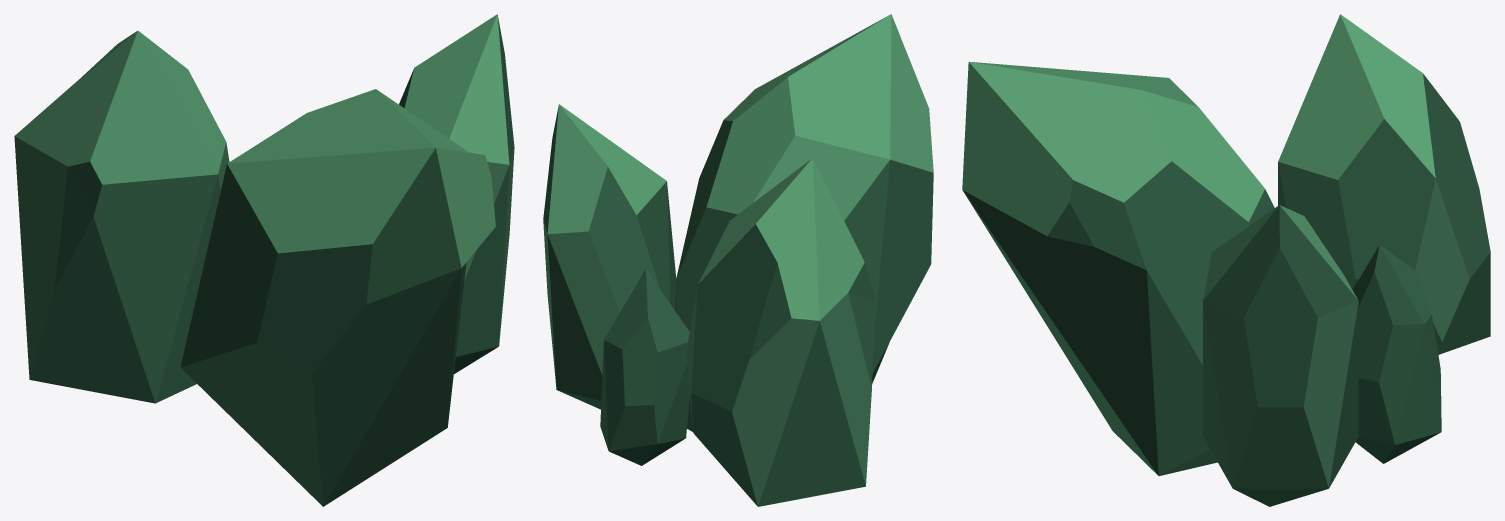
The model's file is MalachiteRock2.glb.
3 renders of one model, left to right at view 1: azimuth 30°, elevation 25°; view 2: azimuth 150°, elevation 25°; view 3: azimuth 270°, elevation 25°, orthographic. The views are drawn at different scales.
Visible parts, largest first — view 1: MalachiteRock2; view 2: MalachiteRock2; view 3: MalachiteRock2.
Part boxes in pixels (bbox=[...]): MalachiteRock2: bbox=[14, 14, 514, 506]; MalachiteRock2: bbox=[543, 14, 933, 506]; MalachiteRock2: bbox=[962, 14, 1490, 506].
Size of the model in its own units: 0.8324 by 0.7668 by 0.95.
